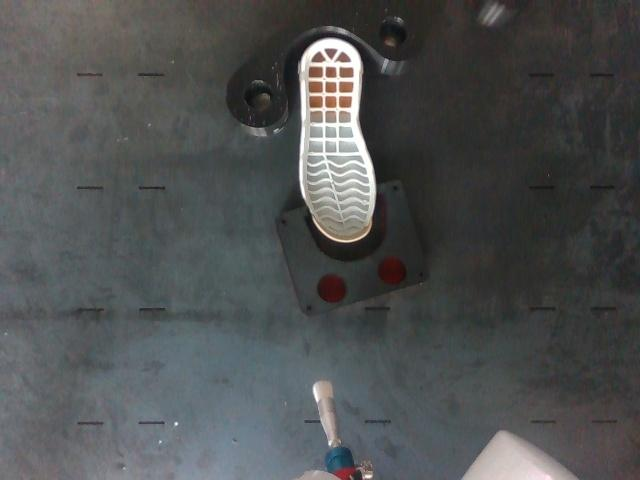shoes: (302, 38, 374, 240)
